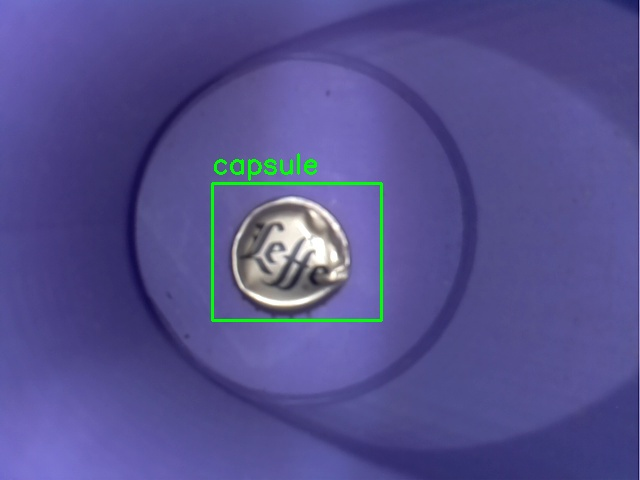capsule: (212, 183, 381, 320)
